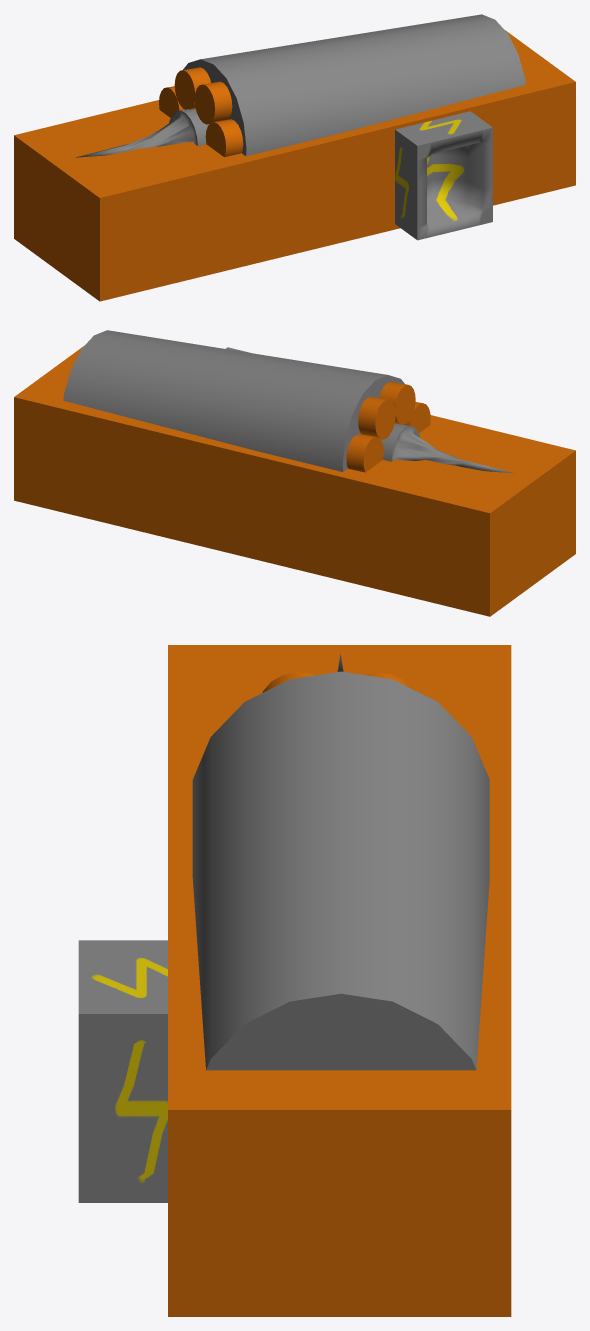
The model's file is Laser.FBX.
3 views of the same model, one above another, from view 1: azimuth 30°, elevation 25°; view 2: azimuth 150°, elevation 25°; view 3: azimuth 270°, elevation 25° (orthographic). The views are drawn at different scales.
Parts seen in each view (by area): view 1: Box001, Cylinder008, Box002, Cylinder001, Cylinder003, Cylinder004, Cylinder002, Cylinder006; view 2: Box001, Cylinder008, Cylinder001, Cylinder002, Cylinder006, Cylinder003, Cylinder004; view 3: Box001, Cylinder008, Box002.
Part boxes in pixels (bbox=[...]): Box001: bbox=[14, 30, 575, 301]; Cylinder008: bbox=[183, 14, 525, 156]; Box002: bbox=[395, 111, 492, 240]; Cylinder001: bbox=[75, 108, 209, 157]; Cylinder003: bbox=[194, 81, 232, 124]; Cylinder004: bbox=[205, 119, 243, 157]; Cylinder002: bbox=[174, 67, 210, 109]; Cylinder006: bbox=[159, 86, 184, 117]; Box001: bbox=[14, 346, 575, 616]; Cylinder008: bbox=[63, 330, 404, 471]; Cylinder001: bbox=[380, 423, 514, 473]; Cylinder002: bbox=[358, 396, 395, 439]; Cylinder006: bbox=[346, 434, 383, 472]; Cylinder003: bbox=[379, 382, 415, 424]; Cylinder004: bbox=[404, 402, 430, 432]; Box001: bbox=[168, 645, 511, 1316]; Cylinder008: bbox=[192, 671, 489, 1070]; Box002: bbox=[78, 940, 167, 1202].
Size of the model in its own units: 397 by 133 by 156.
Materials: 11 (11 with a texture image).
